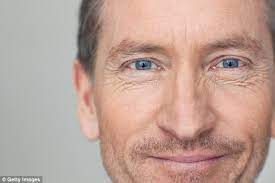wrinkles: (104, 73, 165, 91), (208, 72, 265, 91), (175, 19, 196, 48)
